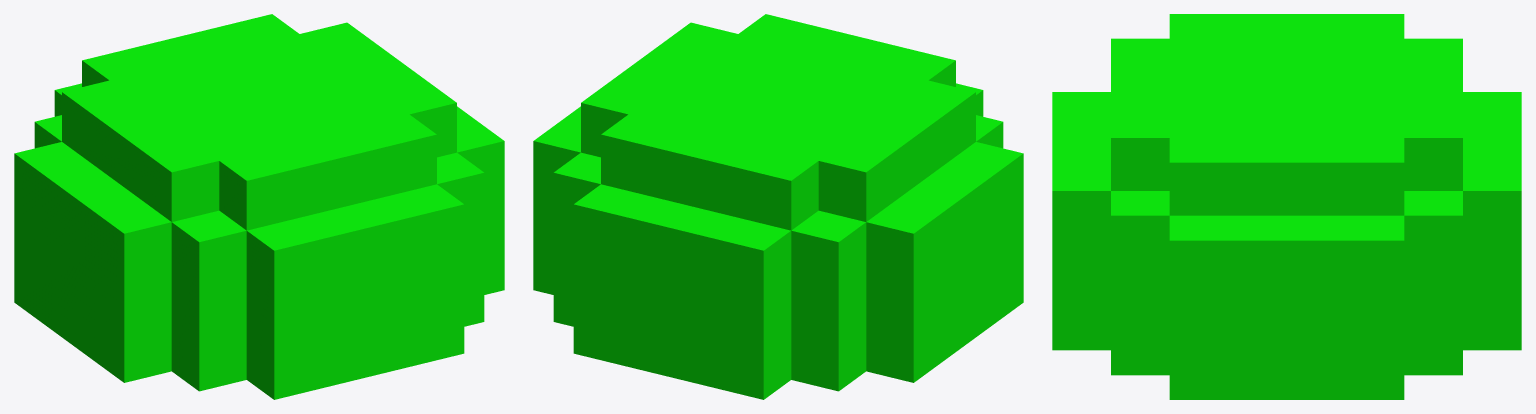
File: green_button.dae
3 renders of one model, left to right at view 1: azimuth 30°, elevation 25°; view 2: azimuth 150°, elevation 25°; view 3: azimuth 270°, elevation 25°, orthographic. The views are drawn at different scales.
Visible parts, largest first — view 1: green_button; view 2: green_button; view 3: green_button.
Part boxes in pixels (bbox=[...]): green_button: bbox=[14, 14, 504, 399]; green_button: bbox=[533, 14, 1023, 399]; green_button: bbox=[1052, 14, 1521, 399].
Size of the model in its own units: 0.8 by 0.8 by 0.4.
Materials: 1 (1 with a texture image).
